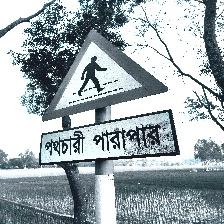Pedestrian-crossing: (39, 30, 177, 164)
